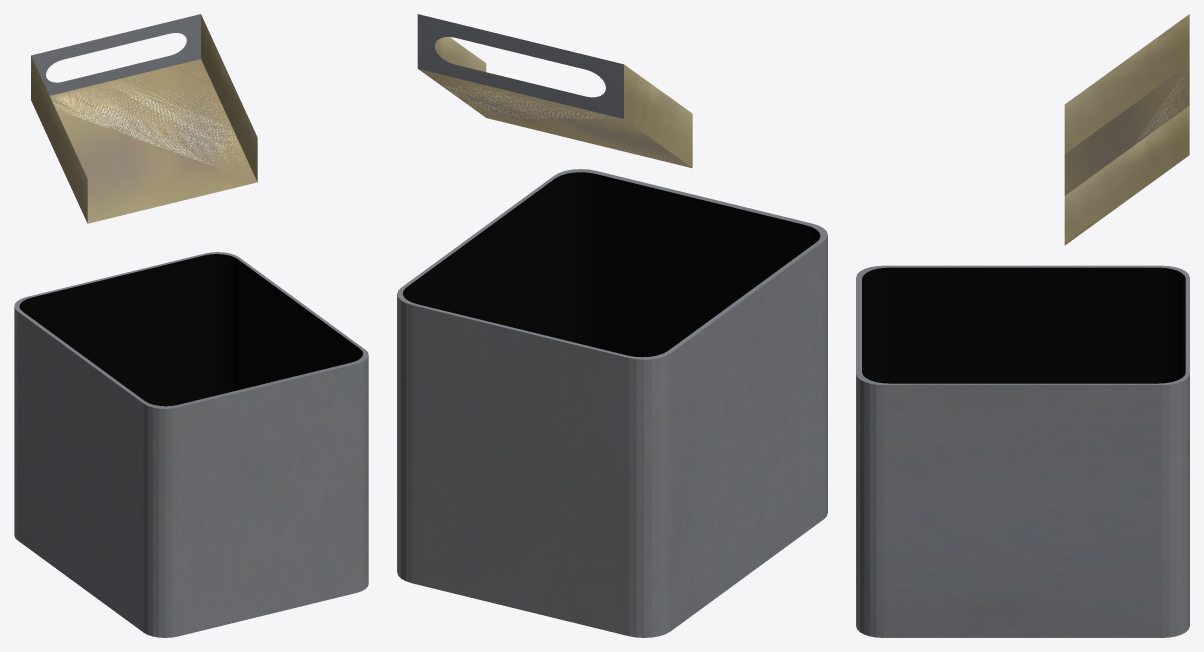
File: library_bookdrop.fbx
3 views of the same model, side by side, from view 1: azimuth 30°, elevation 25°; view 2: azimuth 150°, elevation 25°; view 3: azimuth 270°, elevation 25° (orthographic). The views are drawn at different scales.
Parts seen in each view (by area): view 1: library_bookdrop; view 2: library_bookdrop; view 3: library_bookdrop.
Boxes of the visible parts, bbox=[...] form: library_bookdrop: bbox=[14, 14, 368, 637]; library_bookdrop: bbox=[397, 14, 827, 637]; library_bookdrop: bbox=[856, 14, 1189, 637].
Size of the model in its own units: 7.87 by 15.92 by 9.29.
